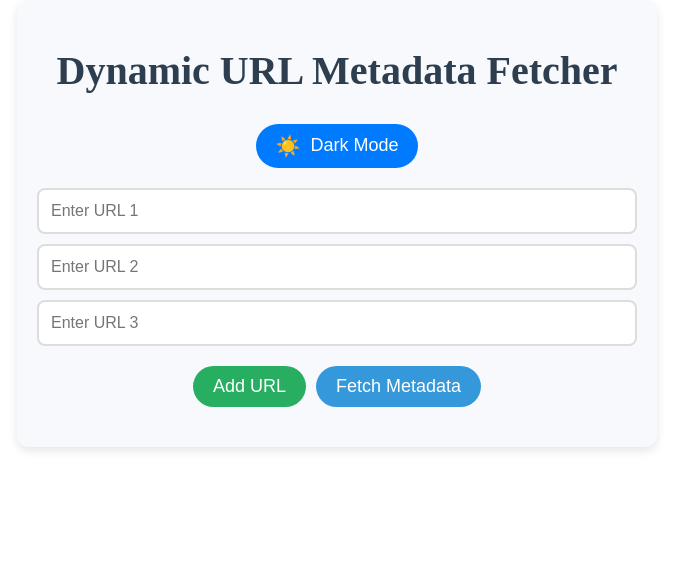
UrlForm Component › allows removing URL fields
Click the button "Add URL".
click(249, 386)  # box [193,366,306,407]
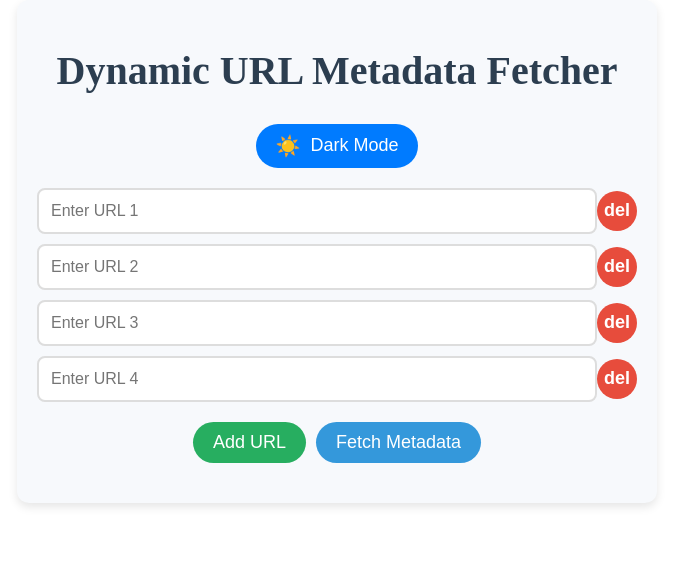
Click the button "Add URL".
click(249, 442)  # box [193,422,306,463]
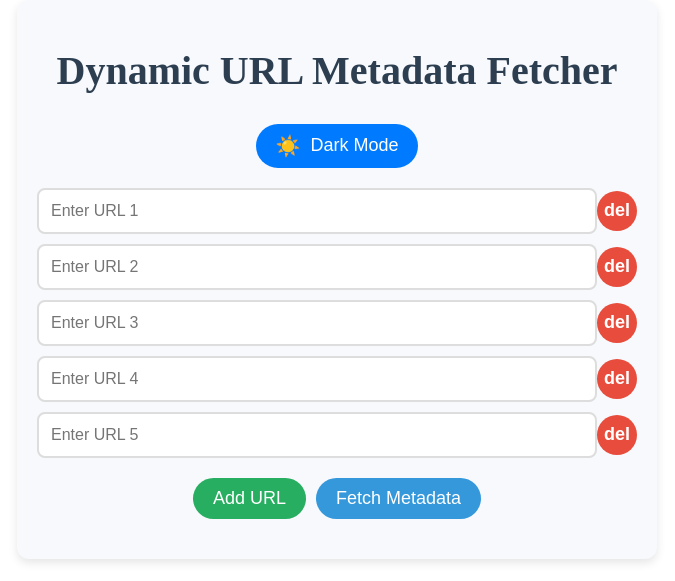
Click the 1st button "del".
click(617, 211)  # box [597,191,637,231]
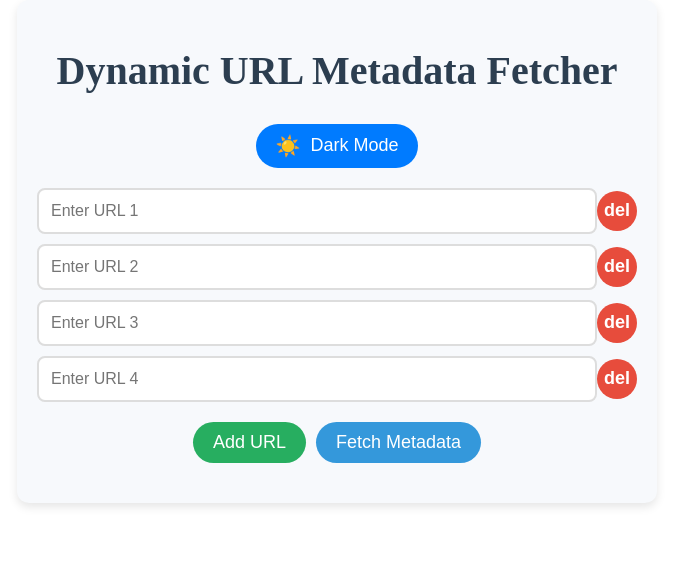
Check: the number of fields with placeholder "Enter URL 1" is 4, box [37,188,597,234]; [37,244,597,290]; [37,300,597,346]; [37,356,597,402]
